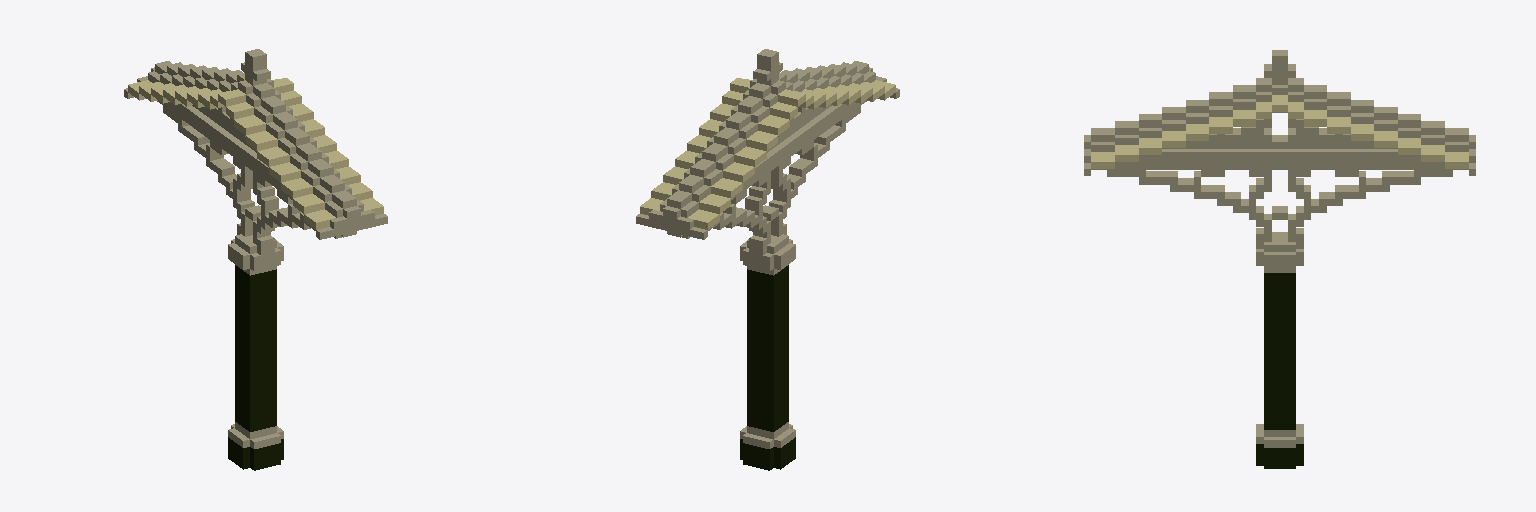
The picture shows the model from 3 angles: view 1: azimuth 30°, elevation 25°; view 2: azimuth 150°, elevation 25°; view 3: azimuth 270°, elevation 25°; orthographic projection.
Parts seen in each view (by area): view 1: object 1; view 2: object 1; view 3: object 1.
Boxes of the visible parts, <box> form: object 1: <box>124,49,387,470</box>; object 1: <box>636,49,899,470</box>; object 1: <box>1084,50,1475,468</box>.
Size of the model in its own units: 1 by 5.7 by 5.
Materials: 1 (1 with a texture image).